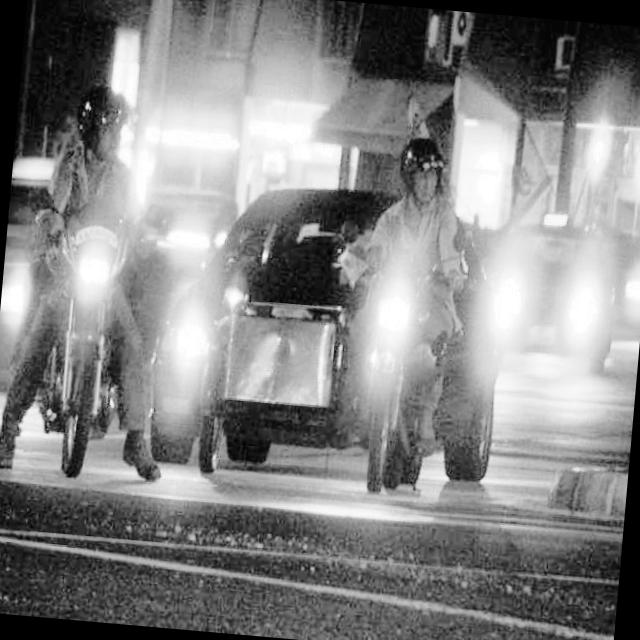Car: (136, 142, 518, 528), (477, 205, 618, 382)
Motorcycle: (5, 203, 160, 486), (322, 244, 455, 502)
